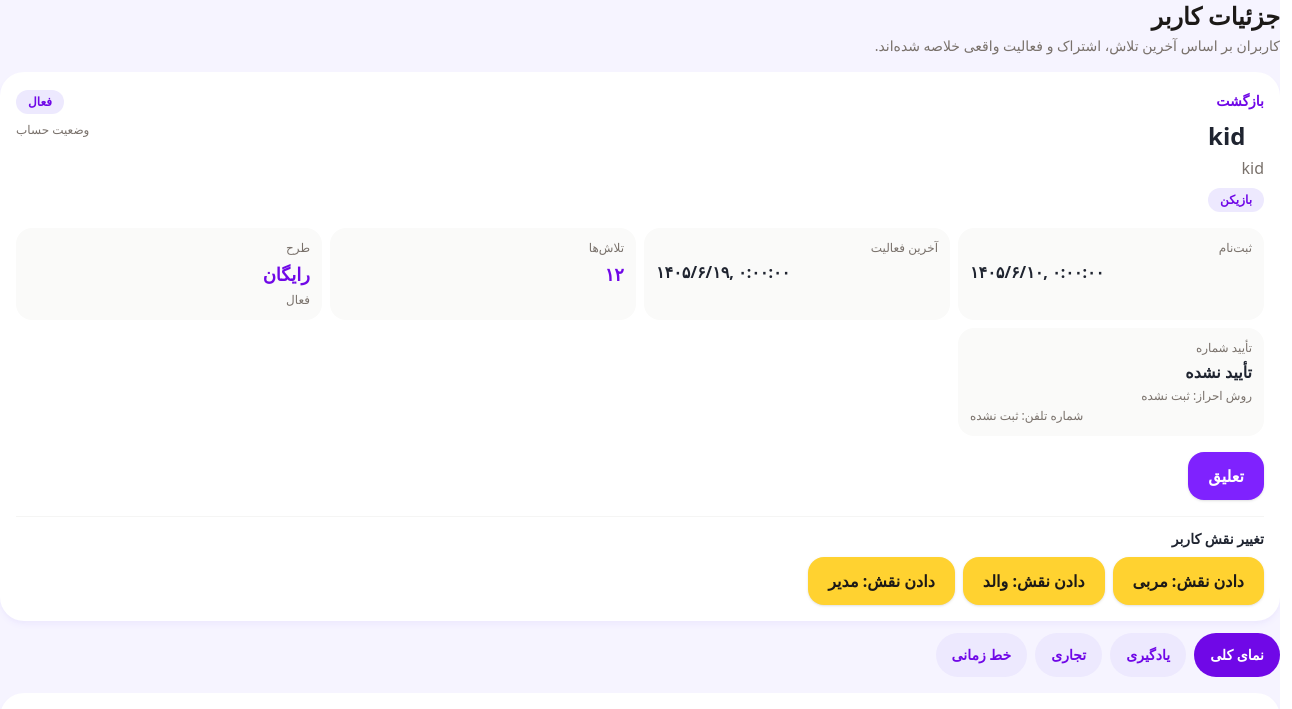
Test case: admin ops pages › user detail renders 360 tabs with timeline
Expected: the heading "جزئیات کاربر" is shown, [1152,0,1280,32]
Click the button "یادگیری" at (1148, 655), box [1110,633,1186,677]
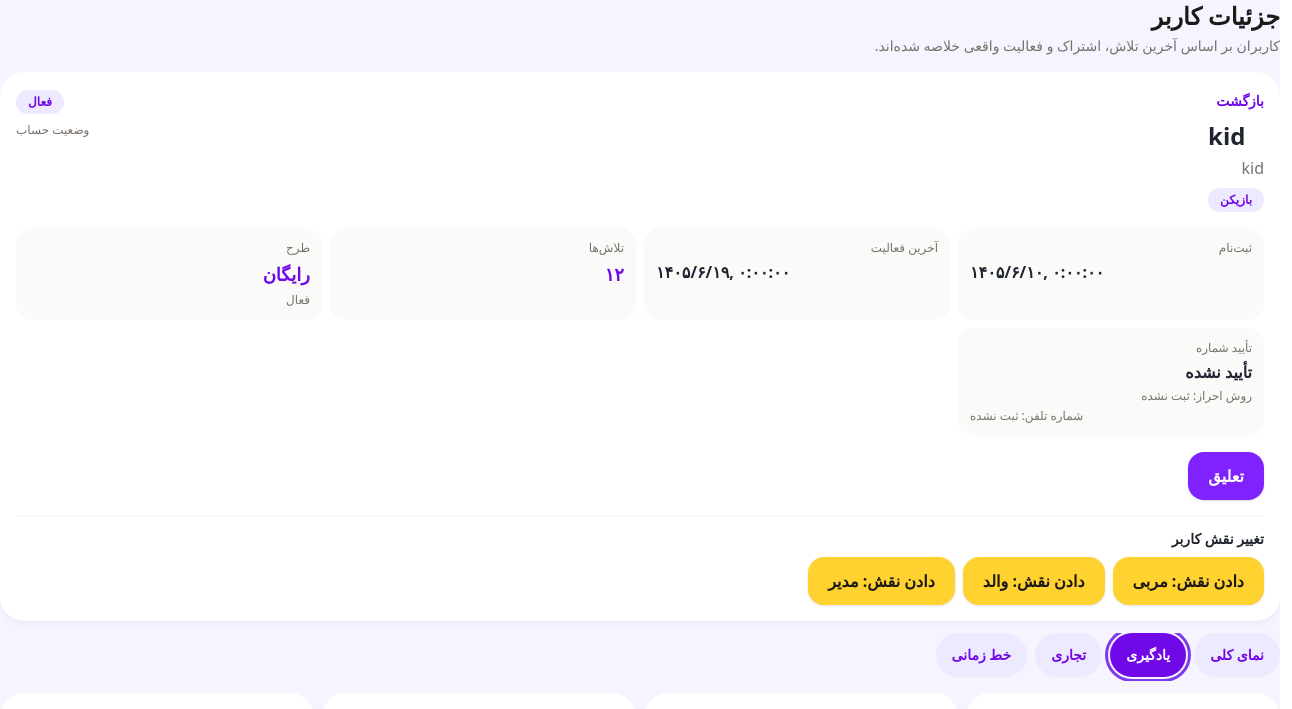
Click the button "خط زمانی" at (981, 655), box [936,633,1027,677]
(page scrolled)
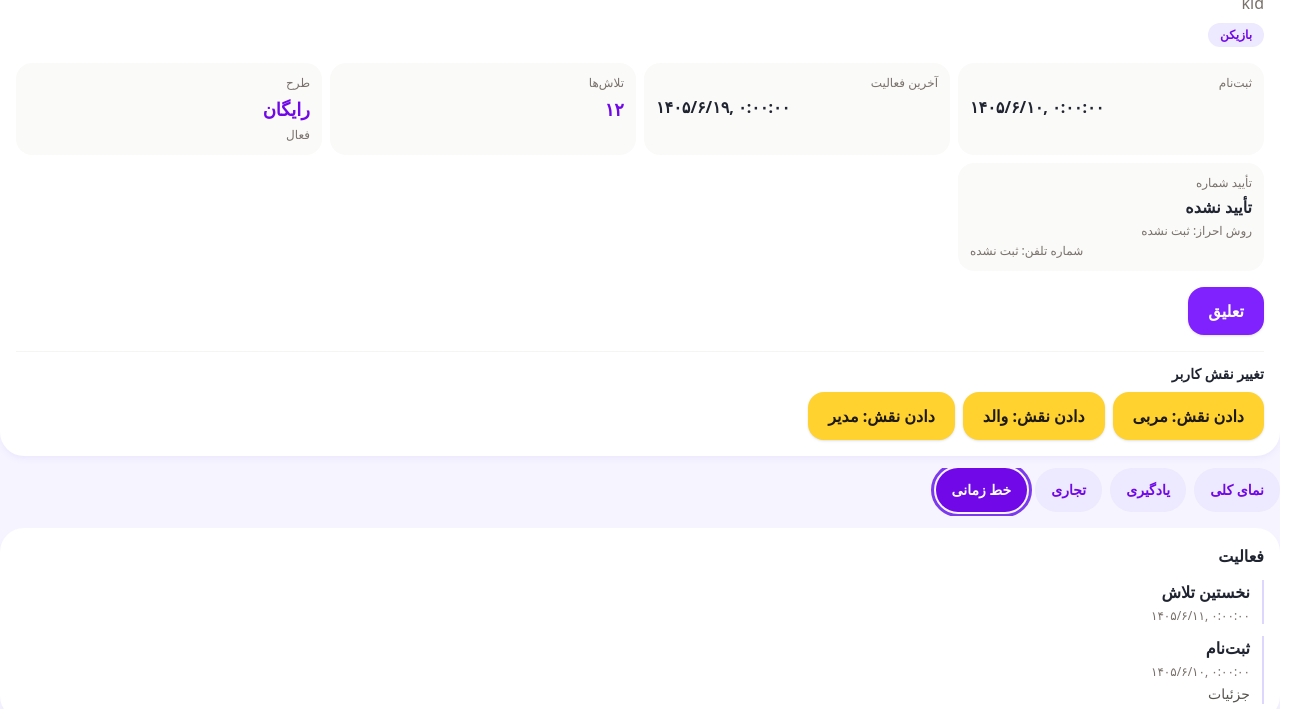
Result: the text "نخستین تلاش" is shown at [1161,581,1250,603]
